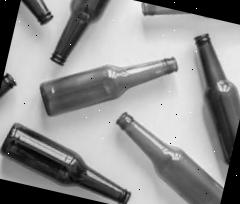glass: (35, 29, 180, 142), (93, 104, 236, 204), (0, 118, 140, 204), (168, 30, 240, 164), (49, 0, 113, 74)
